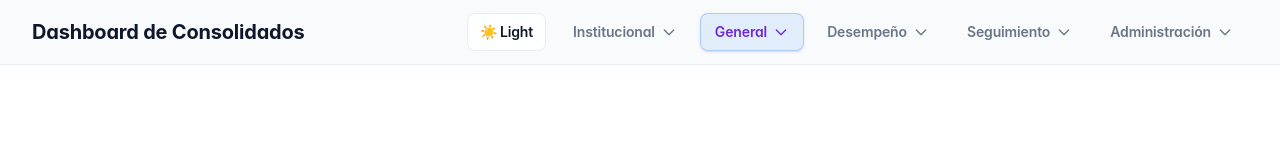
Test case: Header › toggles to dark mode and persists the user preference
Click the button with aria-label "Switch to dark mode". click: (506, 32)
box: [467, 13, 546, 51]
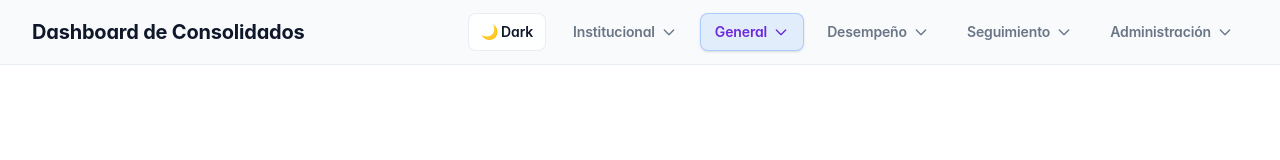
Check: the button with aria-label "Switch to light mode" shows "Dark", box [468, 13, 546, 51]
